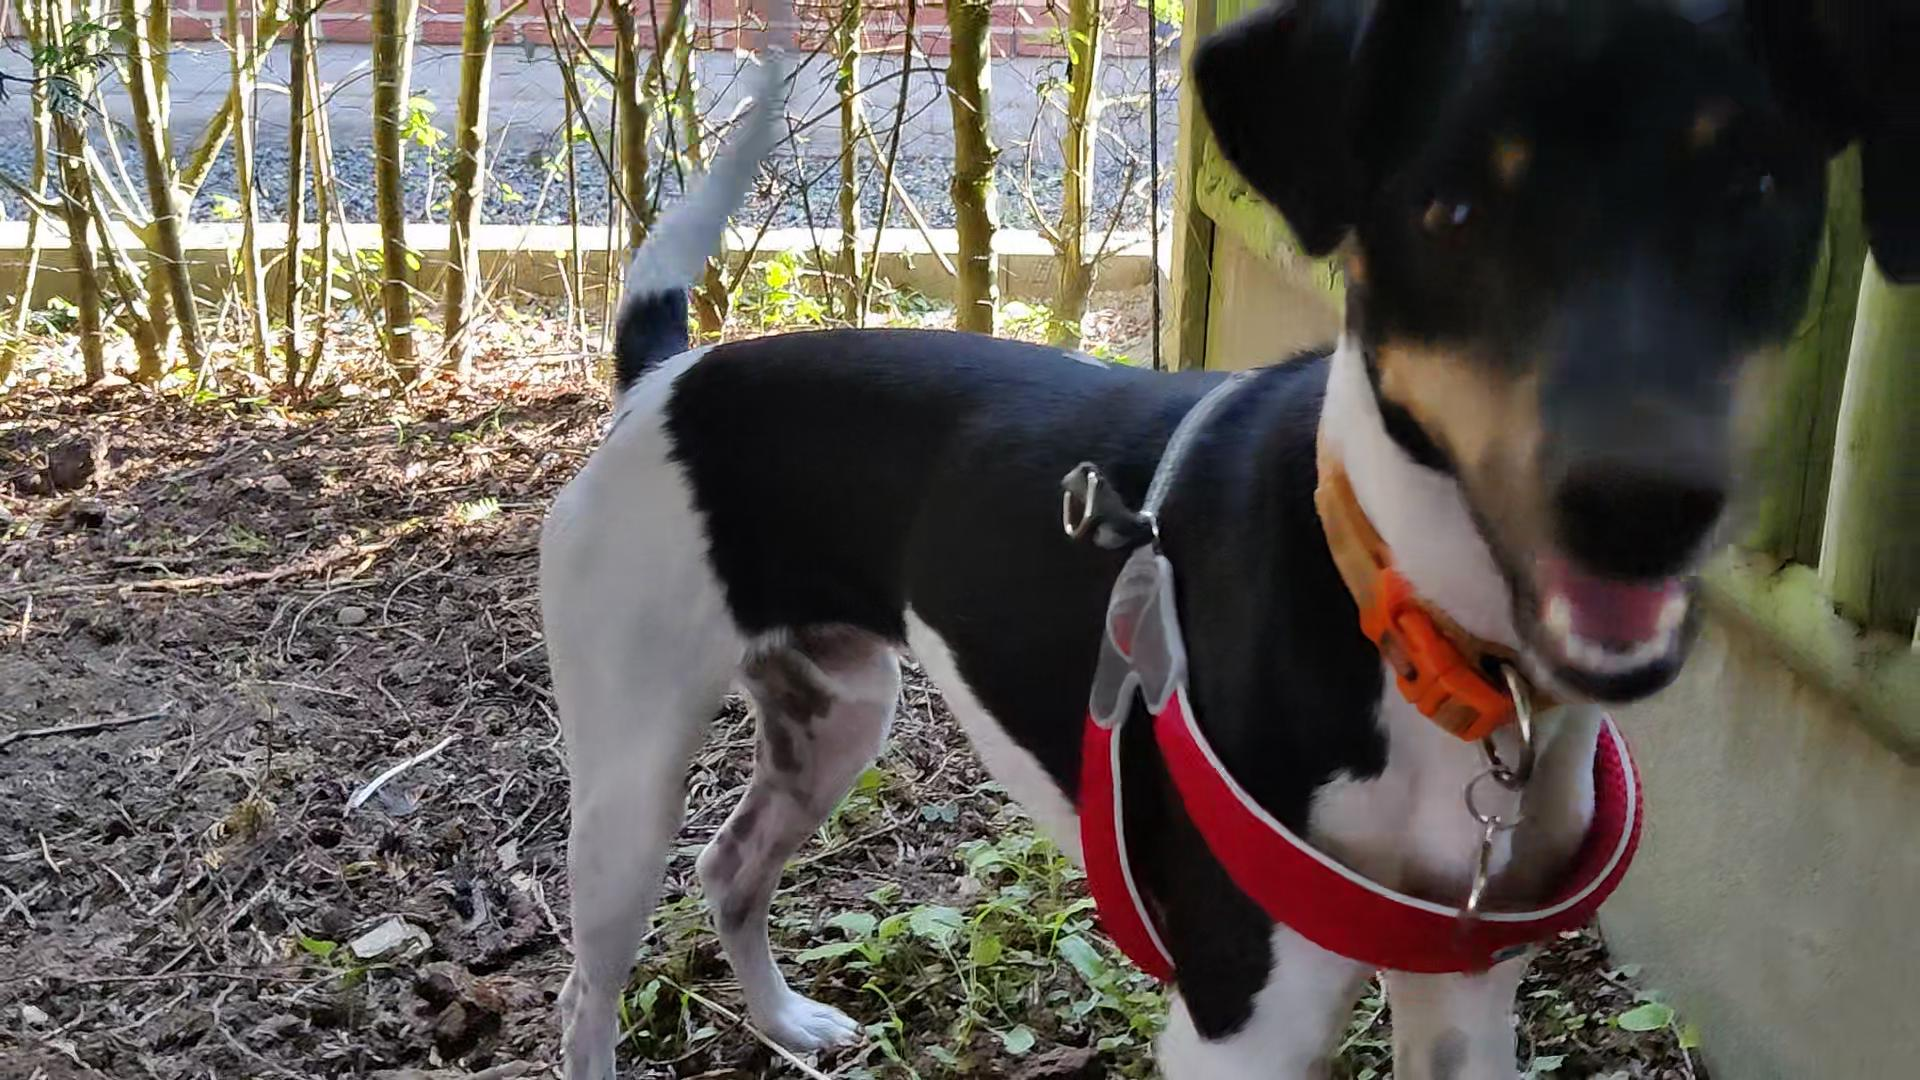Dog: (512, 0, 1919, 1079)
